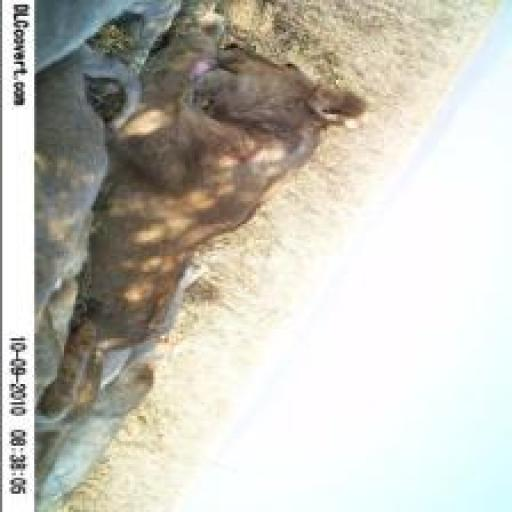lion: (32, 9, 375, 492)
